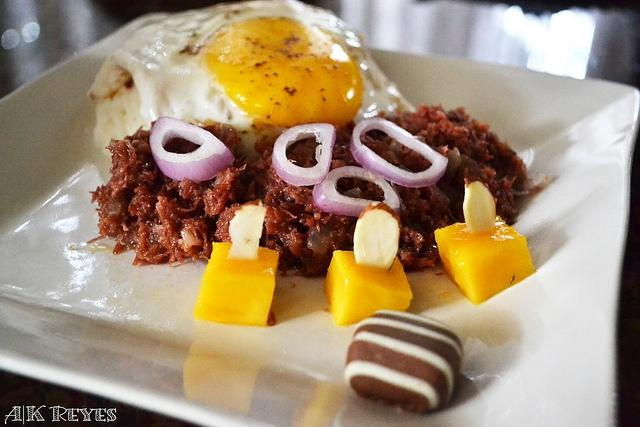almond: (354, 202, 402, 271), (228, 199, 266, 259), (463, 176, 496, 235)
onion: (351, 118, 447, 188), (149, 116, 235, 182), (312, 166, 400, 218), (272, 122, 336, 187)
